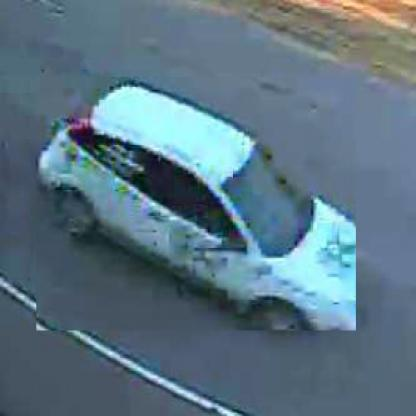car: (37, 78, 358, 333)
